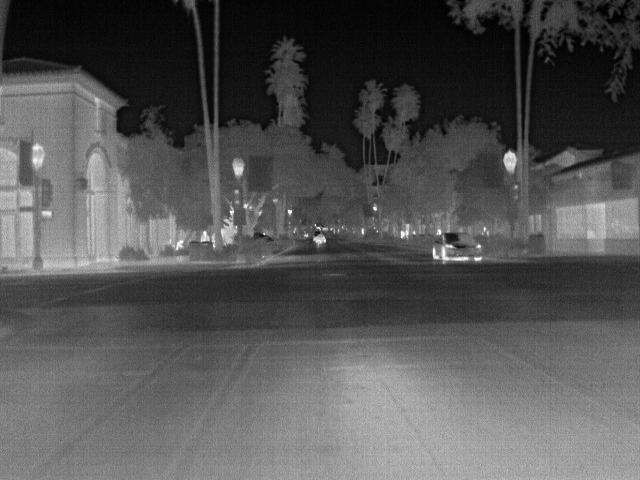car: (429, 230, 484, 262), (311, 228, 328, 244)
person: (198, 228, 210, 248)
